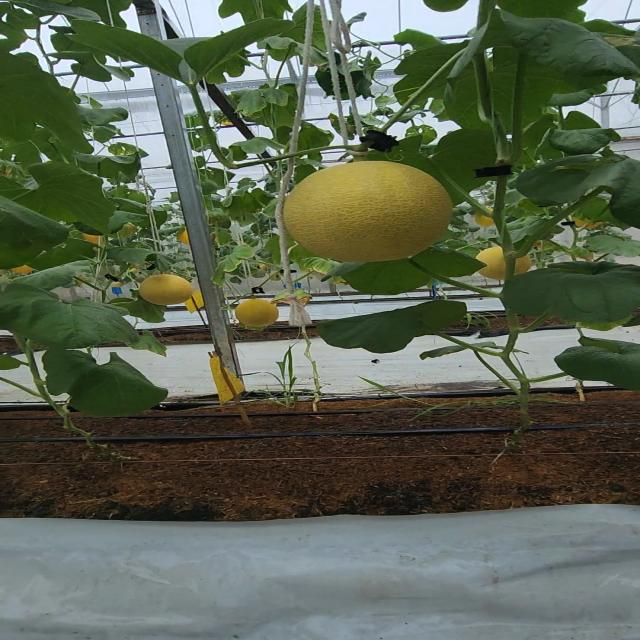Front-melon: (284, 164, 450, 260)
Rear-melon: (140, 276, 195, 304), (238, 300, 276, 326)
